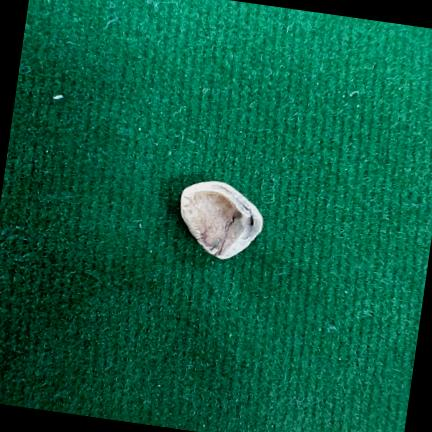shell: (180, 181, 262, 259), (221, 209, 228, 219)
